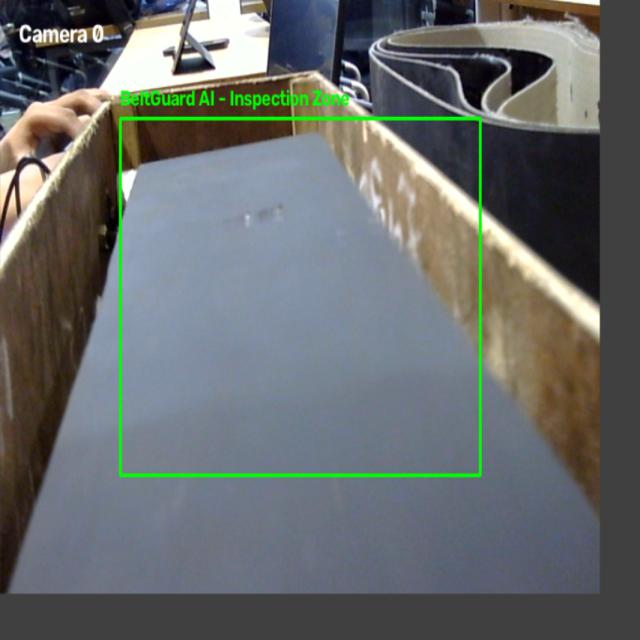crack: (203, 189, 423, 307)
